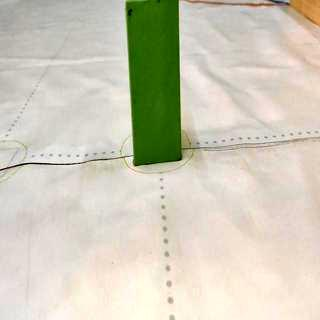greenbox: (125, 2, 184, 162)
